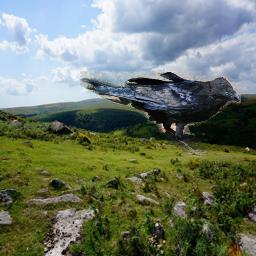Crow: (80, 71, 241, 157)
